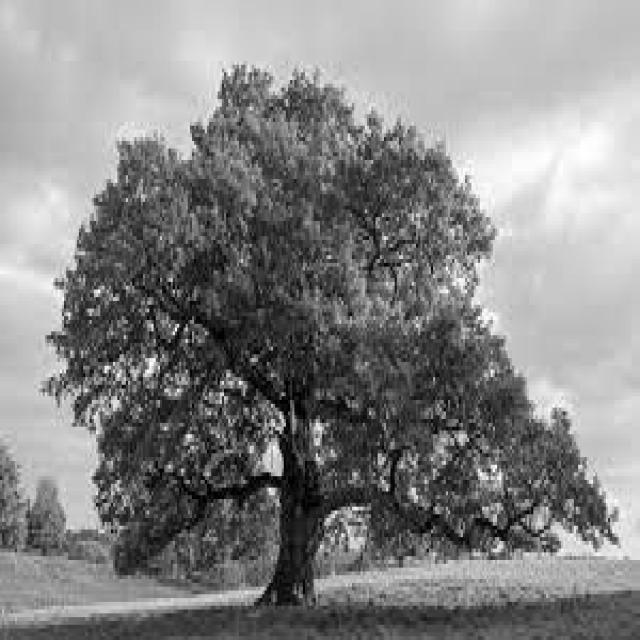roble: (35, 50, 625, 610)
